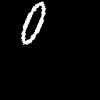chain: (21, 2, 45, 43)
